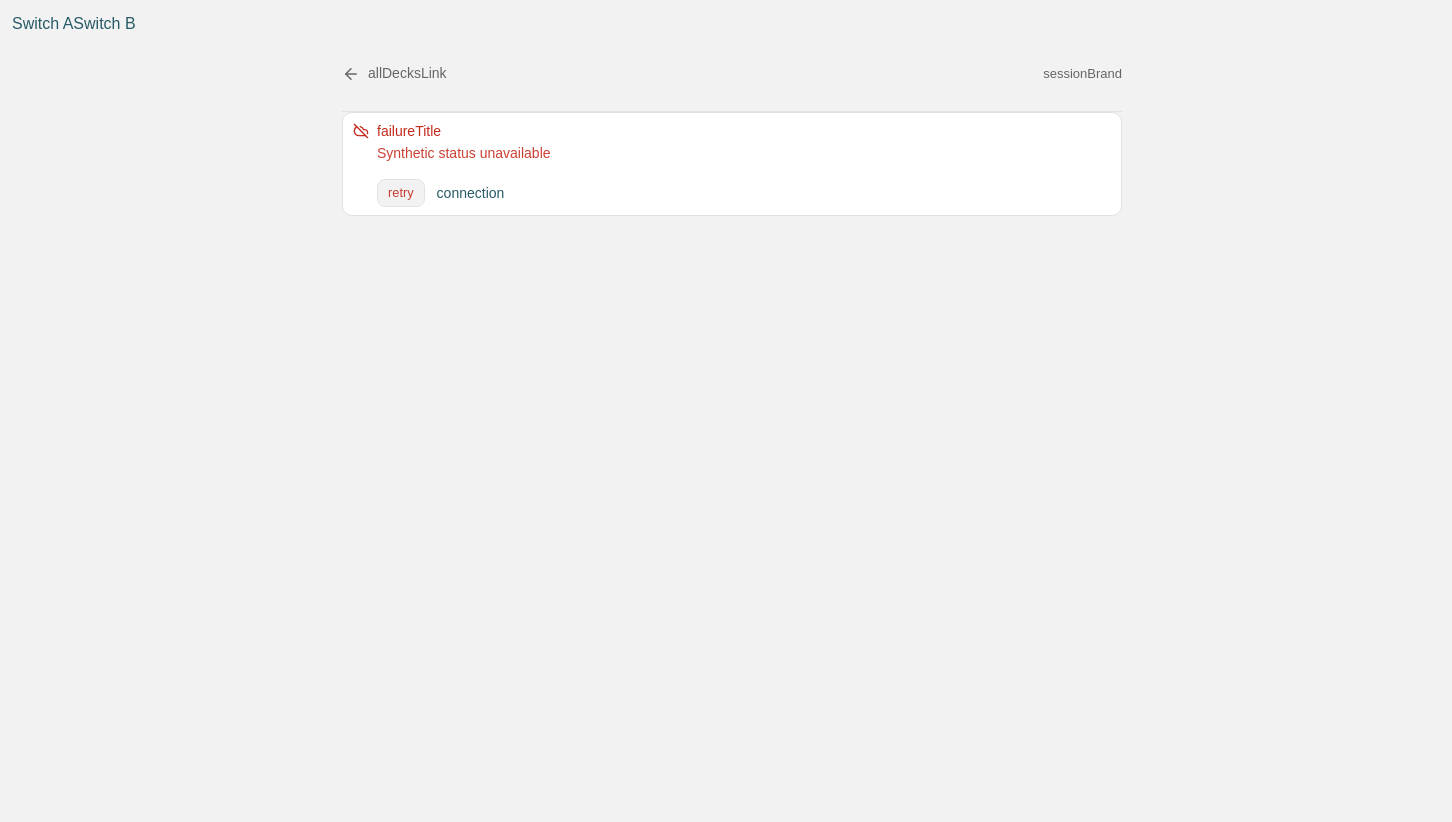
retries a failed uncached status read before attempting session initialization
The image size is (1452, 822).
expect the text "Synthetic status unavailable" is shown: met, box [377,145,551,161]
expect the button "showAnswer" is not shown: met
Click the button "retry" at (401, 193), box [377,179,425,207]
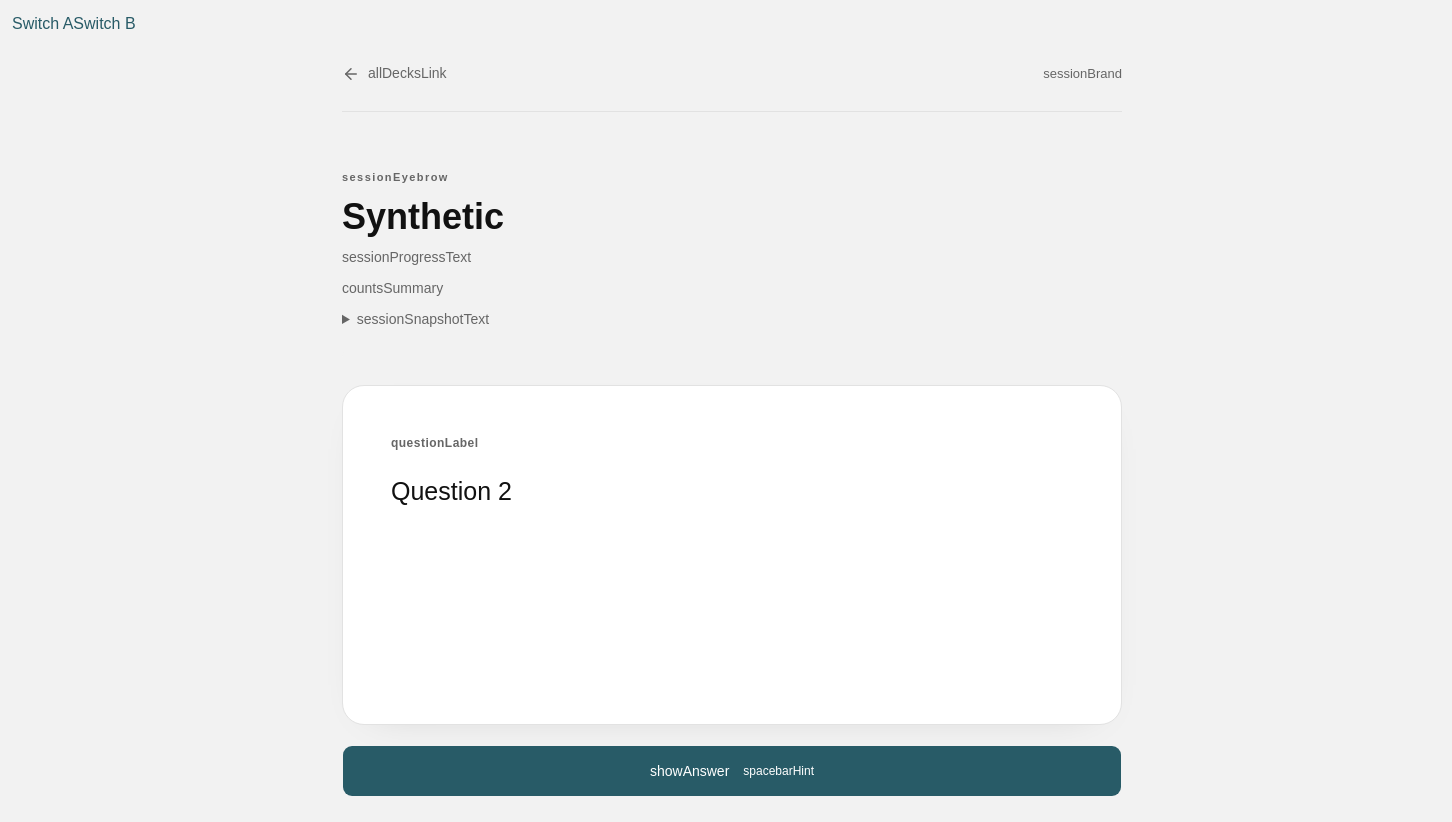
expect the text "Question 2" is shown: met, box [391,477,512,505]
expect the text "Synthetic status unavailable" is gone: met
